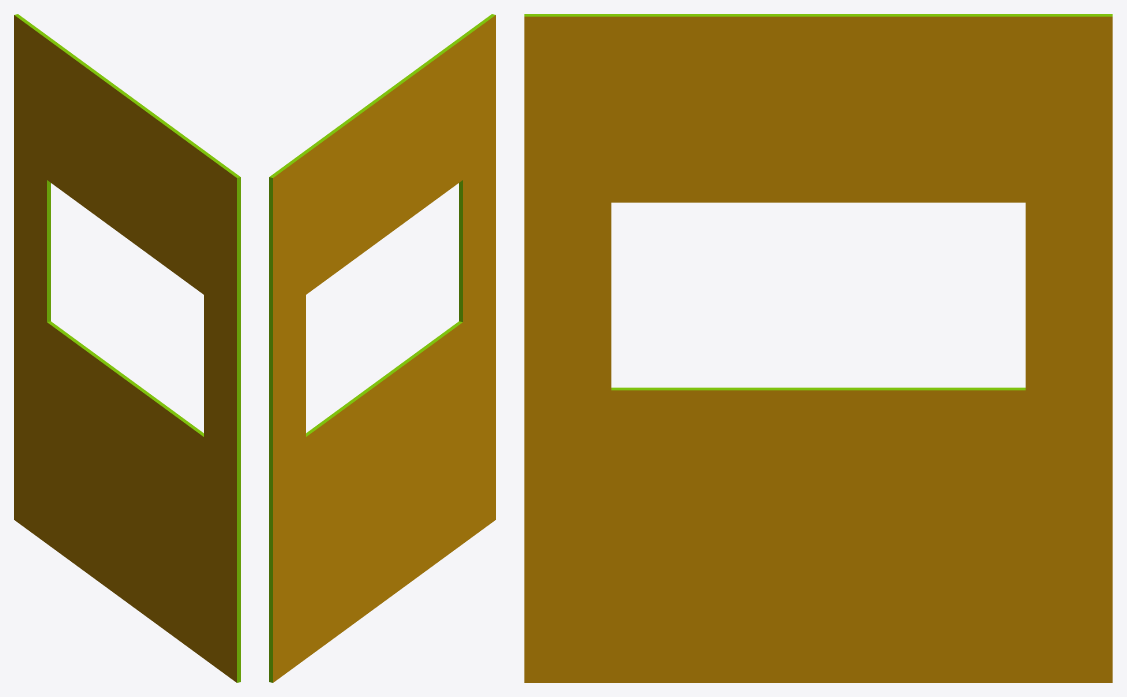
File: StandardWallLargeWindow.fbx
3 views of the same model, side by side, from view 1: azimuth 30°, elevation 25°; view 2: azimuth 150°, elevation 25°; view 3: azimuth 270°, elevation 25° (orthographic). The views are drawn at different scales.
Visible parts, largest first — view 1: StandardWallLargeWindow; view 2: StandardWallLargeWindow; view 3: StandardWallLargeWindow.
Boxes of the visible parts, <box> form: StandardWallLargeWindow: <box>14,14,240,682</box>; StandardWallLargeWindow: <box>269,14,495,682</box>; StandardWallLargeWindow: <box>524,14,1112,682</box>.
Size of the model in its own units: 2.02 by 250 by 200.
